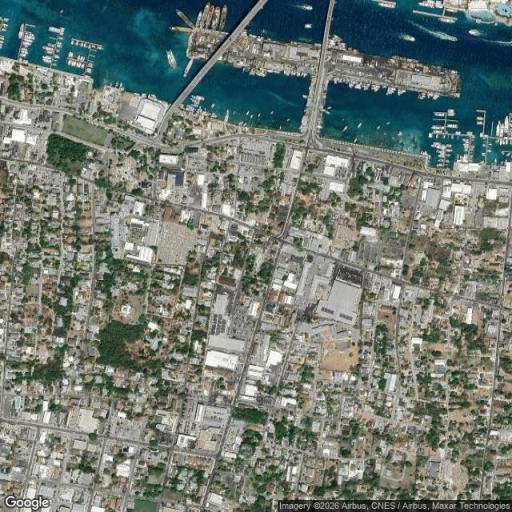ship: (404, 17, 460, 45), (475, 37, 511, 51), (181, 59, 196, 80), (176, 10, 194, 27), (390, 55, 422, 64), (200, 2, 211, 28), (205, 5, 215, 28), (219, 4, 227, 31), (436, 17, 460, 25), (212, 7, 220, 30), (375, 2, 400, 9), (167, 50, 176, 68), (443, 7, 461, 16), (416, 2, 435, 10), (191, 93, 206, 102), (48, 27, 64, 35), (400, 34, 415, 42), (386, 86, 398, 96), (469, 29, 484, 36), (503, 114, 508, 134), (196, 11, 202, 27), (41, 45, 54, 52), (297, 4, 312, 10), (445, 122, 460, 128), (428, 129, 445, 134), (1, 17, 13, 24), (188, 98, 200, 105), (19, 24, 24, 39), (210, 102, 218, 111), (341, 124, 349, 133), (382, 120, 391, 128), (501, 121, 505, 139), (428, 124, 445, 128), (41, 58, 52, 64), (24, 33, 37, 38), (224, 110, 229, 122), (42, 54, 52, 60), (24, 38, 34, 44), (0, 28, 12, 33), (432, 142, 444, 147), (374, 123, 381, 131), (358, 120, 363, 131), (57, 10, 66, 16), (497, 118, 500, 136), (394, 91, 407, 95), (46, 42, 56, 47), (44, 49, 54, 54), (2, 24, 12, 29), (448, 109, 455, 116), (325, 109, 332, 116), (20, 52, 28, 58), (352, 136, 358, 144), (476, 115, 484, 121), (474, 122, 486, 126), (436, 149, 444, 155), (354, 84, 362, 90), (434, 158, 444, 162), (479, 151, 487, 156), (432, 114, 445, 117), (54, 56, 63, 60), (232, 109, 236, 118), (328, 106, 334, 112), (398, 131, 404, 137), (428, 134, 434, 140), (495, 138, 500, 145), (73, 60, 77, 68), (465, 130, 473, 134), (446, 148, 454, 152), (499, 139, 503, 147), (383, 131, 388, 137), (501, 139, 506, 145), (304, 24, 311, 28), (75, 40, 79, 47), (70, 60, 74, 67), (81, 62, 85, 69), (270, 110, 274, 117), (494, 157, 498, 164), (67, 60, 72, 65), (77, 54, 81, 60), (78, 61, 81, 69), (20, 51, 32, 53), (246, 110, 250, 116), (251, 112, 254, 120), (302, 94, 306, 100), (444, 154, 452, 157), (435, 154, 443, 157), (480, 144, 488, 147), (505, 140, 509, 146), (297, 73, 301, 79), (334, 80, 338, 86), (348, 84, 354, 88), (22, 43, 33, 45), (80, 42, 84, 47), (20, 48, 30, 50), (278, 125, 282, 130), (286, 119, 291, 123), (87, 44, 90, 50), (456, 131, 462, 134), (488, 143, 494, 146), (80, 56, 84, 60), (76, 61, 78, 69), (203, 106, 207, 110), (57, 45, 62, 48), (199, 104, 202, 109), (84, 42, 86, 49), (71, 40, 73, 46), (83, 56, 86, 60), (258, 112, 260, 118), (445, 160, 451, 162), (487, 150, 493, 152), (480, 132, 482, 138), (304, 73, 306, 79), (445, 145, 456, 146), (286, 72, 288, 77), (436, 135, 438, 139), (283, 73, 286, 75)
